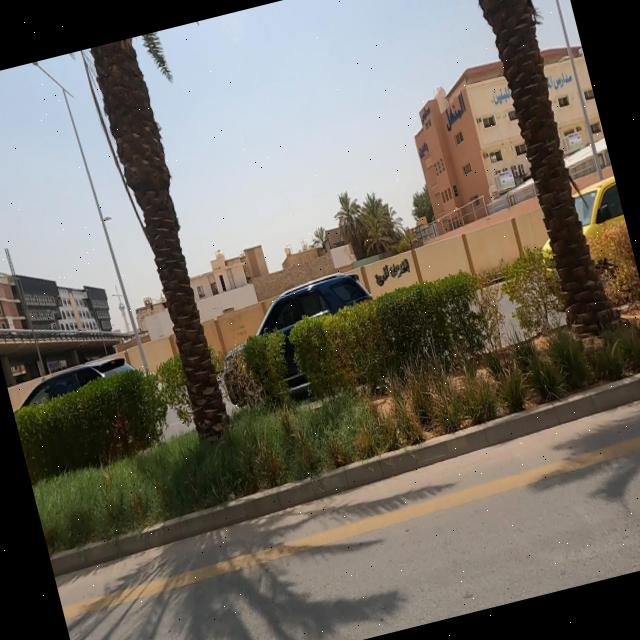Graffiti: (372, 258, 415, 289), (229, 313, 249, 339)
